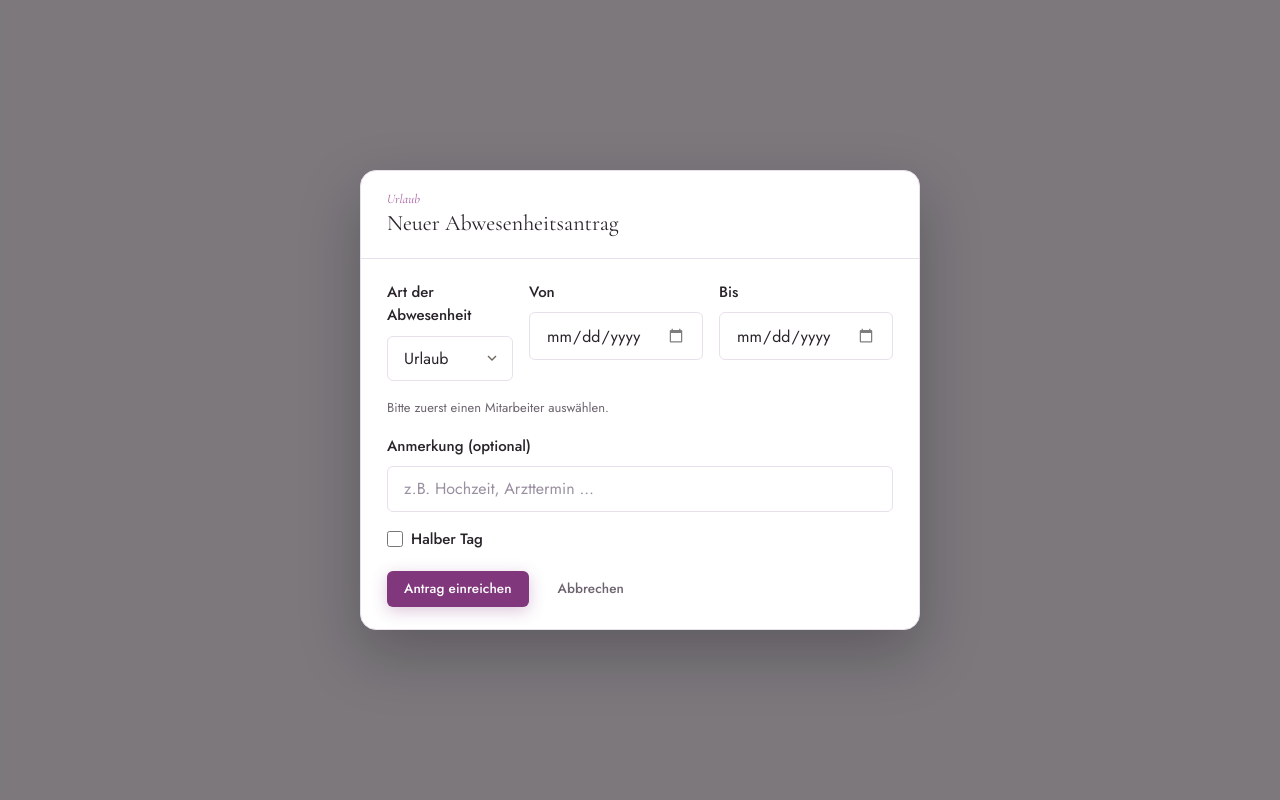
Test case: LeaveRequestForm › create with no employeeId selected: refuses client-side with the picker hint as inline error, never POSTs
Type "2026-10-05" into the date field with test id "leave-form-from" at (616, 336), box [529, 312, 703, 360]
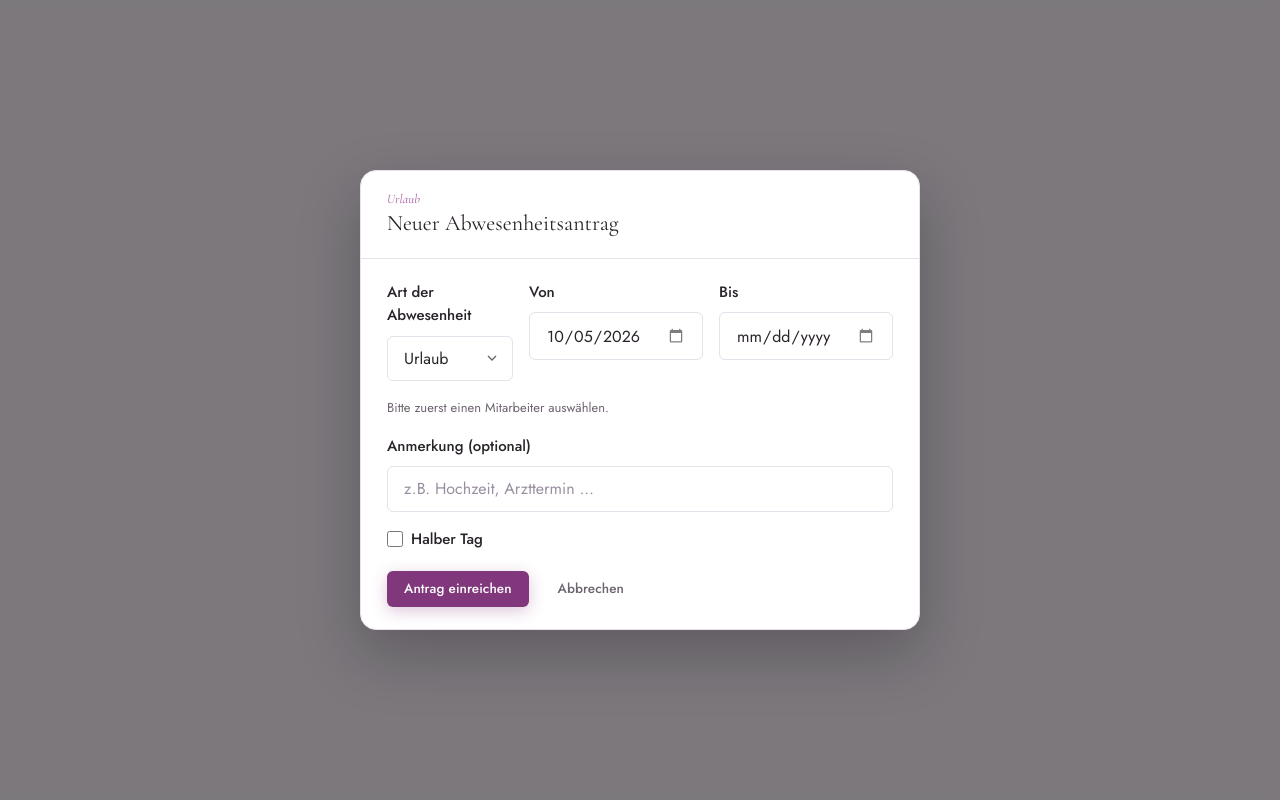
Type "2026-10-06" into the date field with test id "leave-form-to" at (806, 336), box [719, 312, 893, 360]
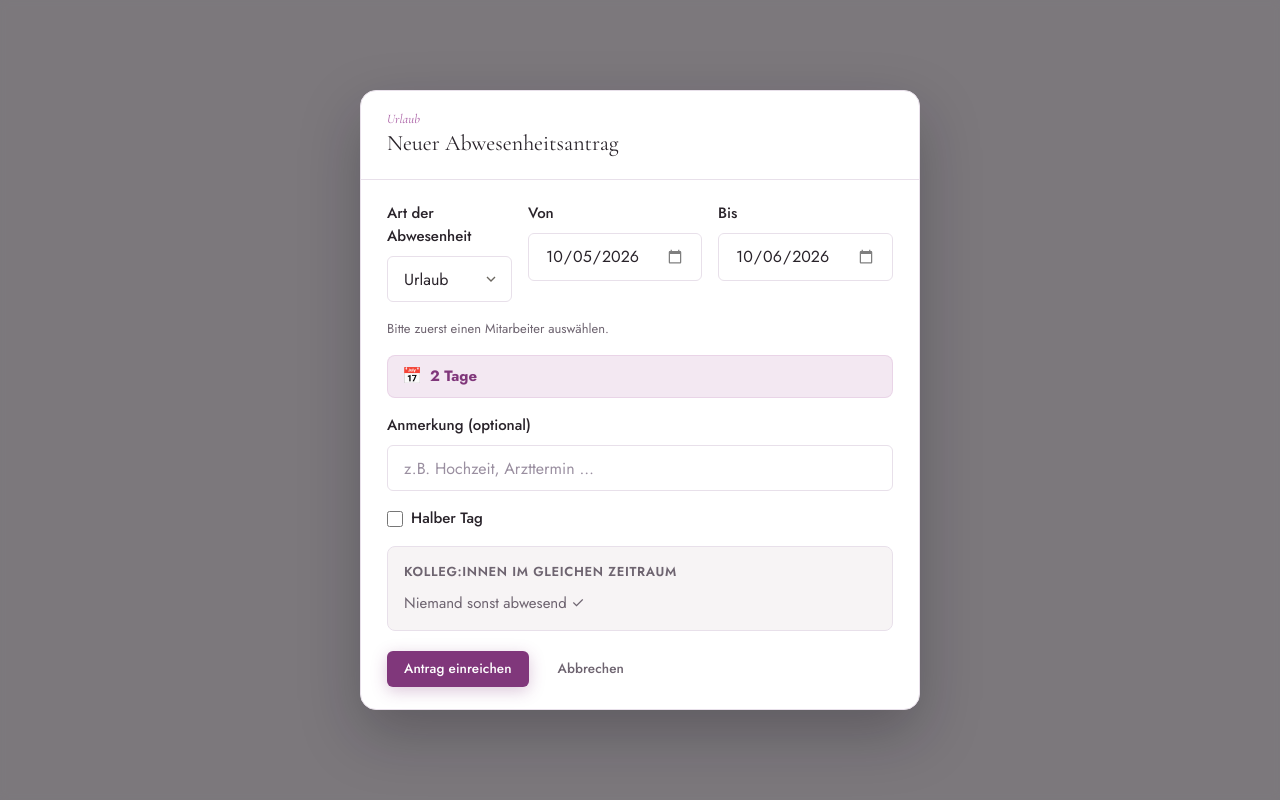
Click the button with test id "leave-form-submit" at (458, 669), box [387, 651, 529, 687]
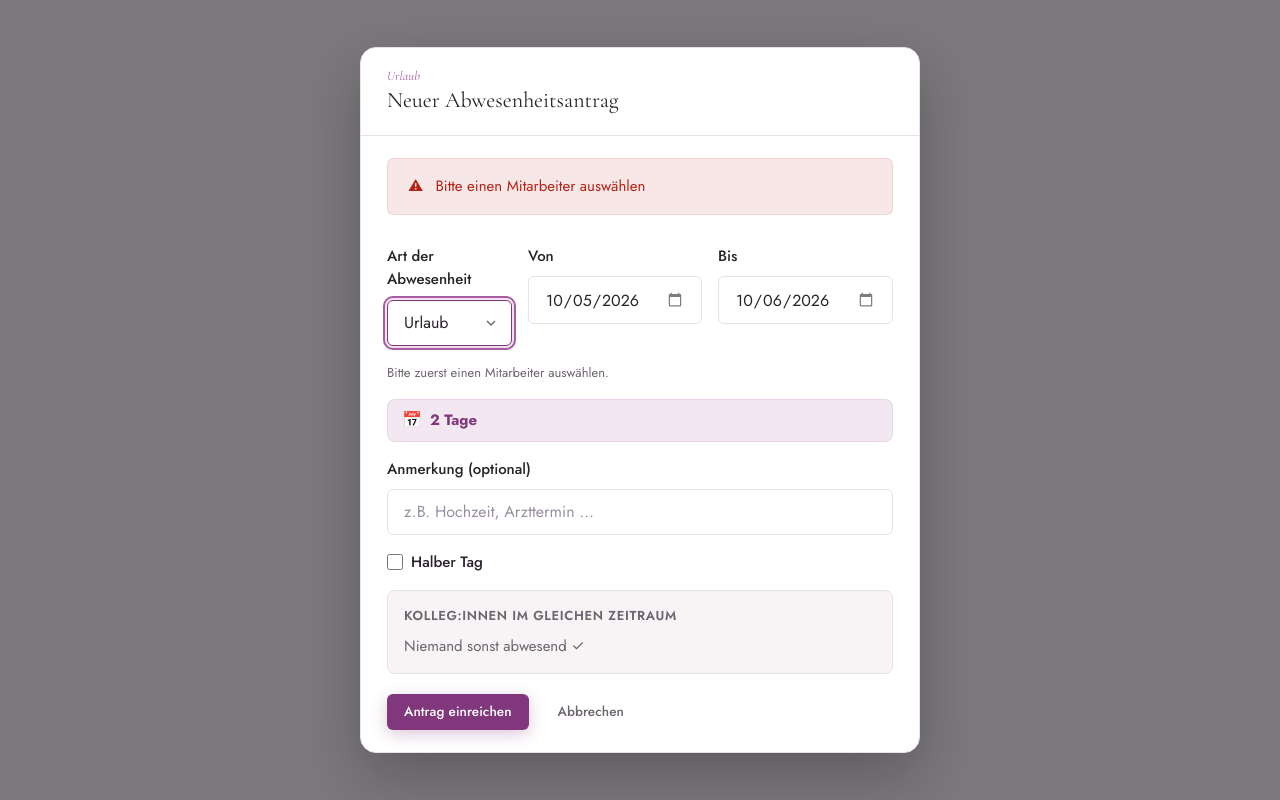
Now the message with test id "leave-form-error" shows "Bitte einen Mitarbeiter auswählen", box [435, 175, 645, 197]
